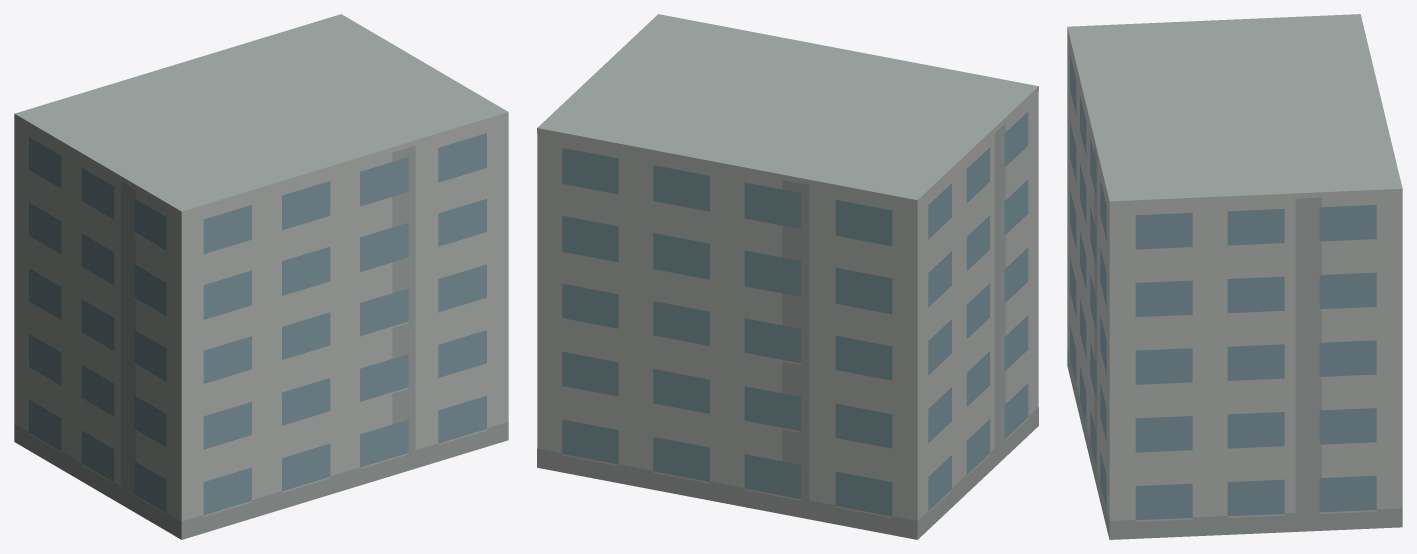
File: residential-fe7bb252-cbff-478c-9e15-c7ae58389a66.glb
3 views of the same model, side by side, from view 1: azimuth 30°, elevation 25°; view 2: azimuth 150°, elevation 25°; view 3: azimuth 270°, elevation 25° (orthographic). The views are drawn at different scales.
Parts seen in each view (by area): view 1: residential-fe7bb252-cbff-478c-9e15-c7ae58389a66.tmp; view 2: residential-fe7bb252-cbff-478c-9e15-c7ae58389a66.tmp; view 3: residential-fe7bb252-cbff-478c-9e15-c7ae58389a66.tmp.
Boxes of the visible parts, x1=… form: residential-fe7bb252-cbff-478c-9e15-c7ae58389a66.tmp: x1=14, y1=14, x2=508, y2=539; residential-fe7bb252-cbff-478c-9e15-c7ae58389a66.tmp: x1=537, y1=14, x2=1038, y2=539; residential-fe7bb252-cbff-478c-9e15-c7ae58389a66.tmp: x1=1067, y1=14, x2=1402, y2=539.
Size of the model in its own units: 18.11 by 15.25 by 13.7.
